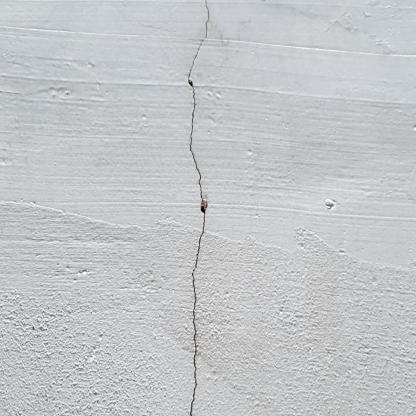crack: (188, 1, 209, 416)
